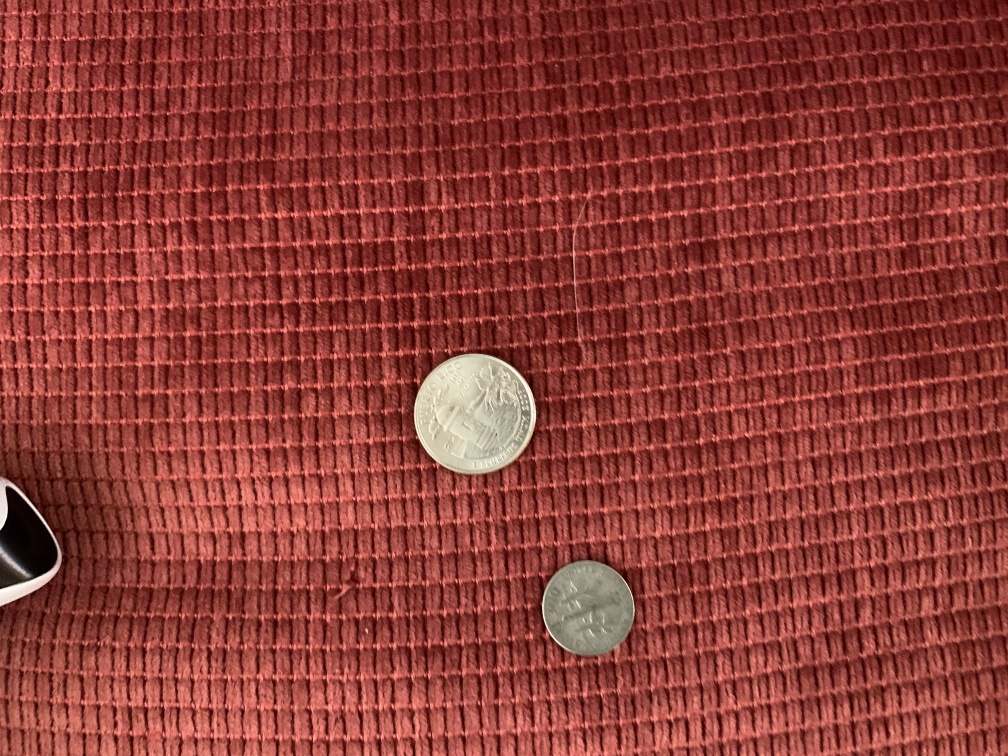dime: (537, 551, 643, 661)
nickel: (409, 349, 539, 482)
